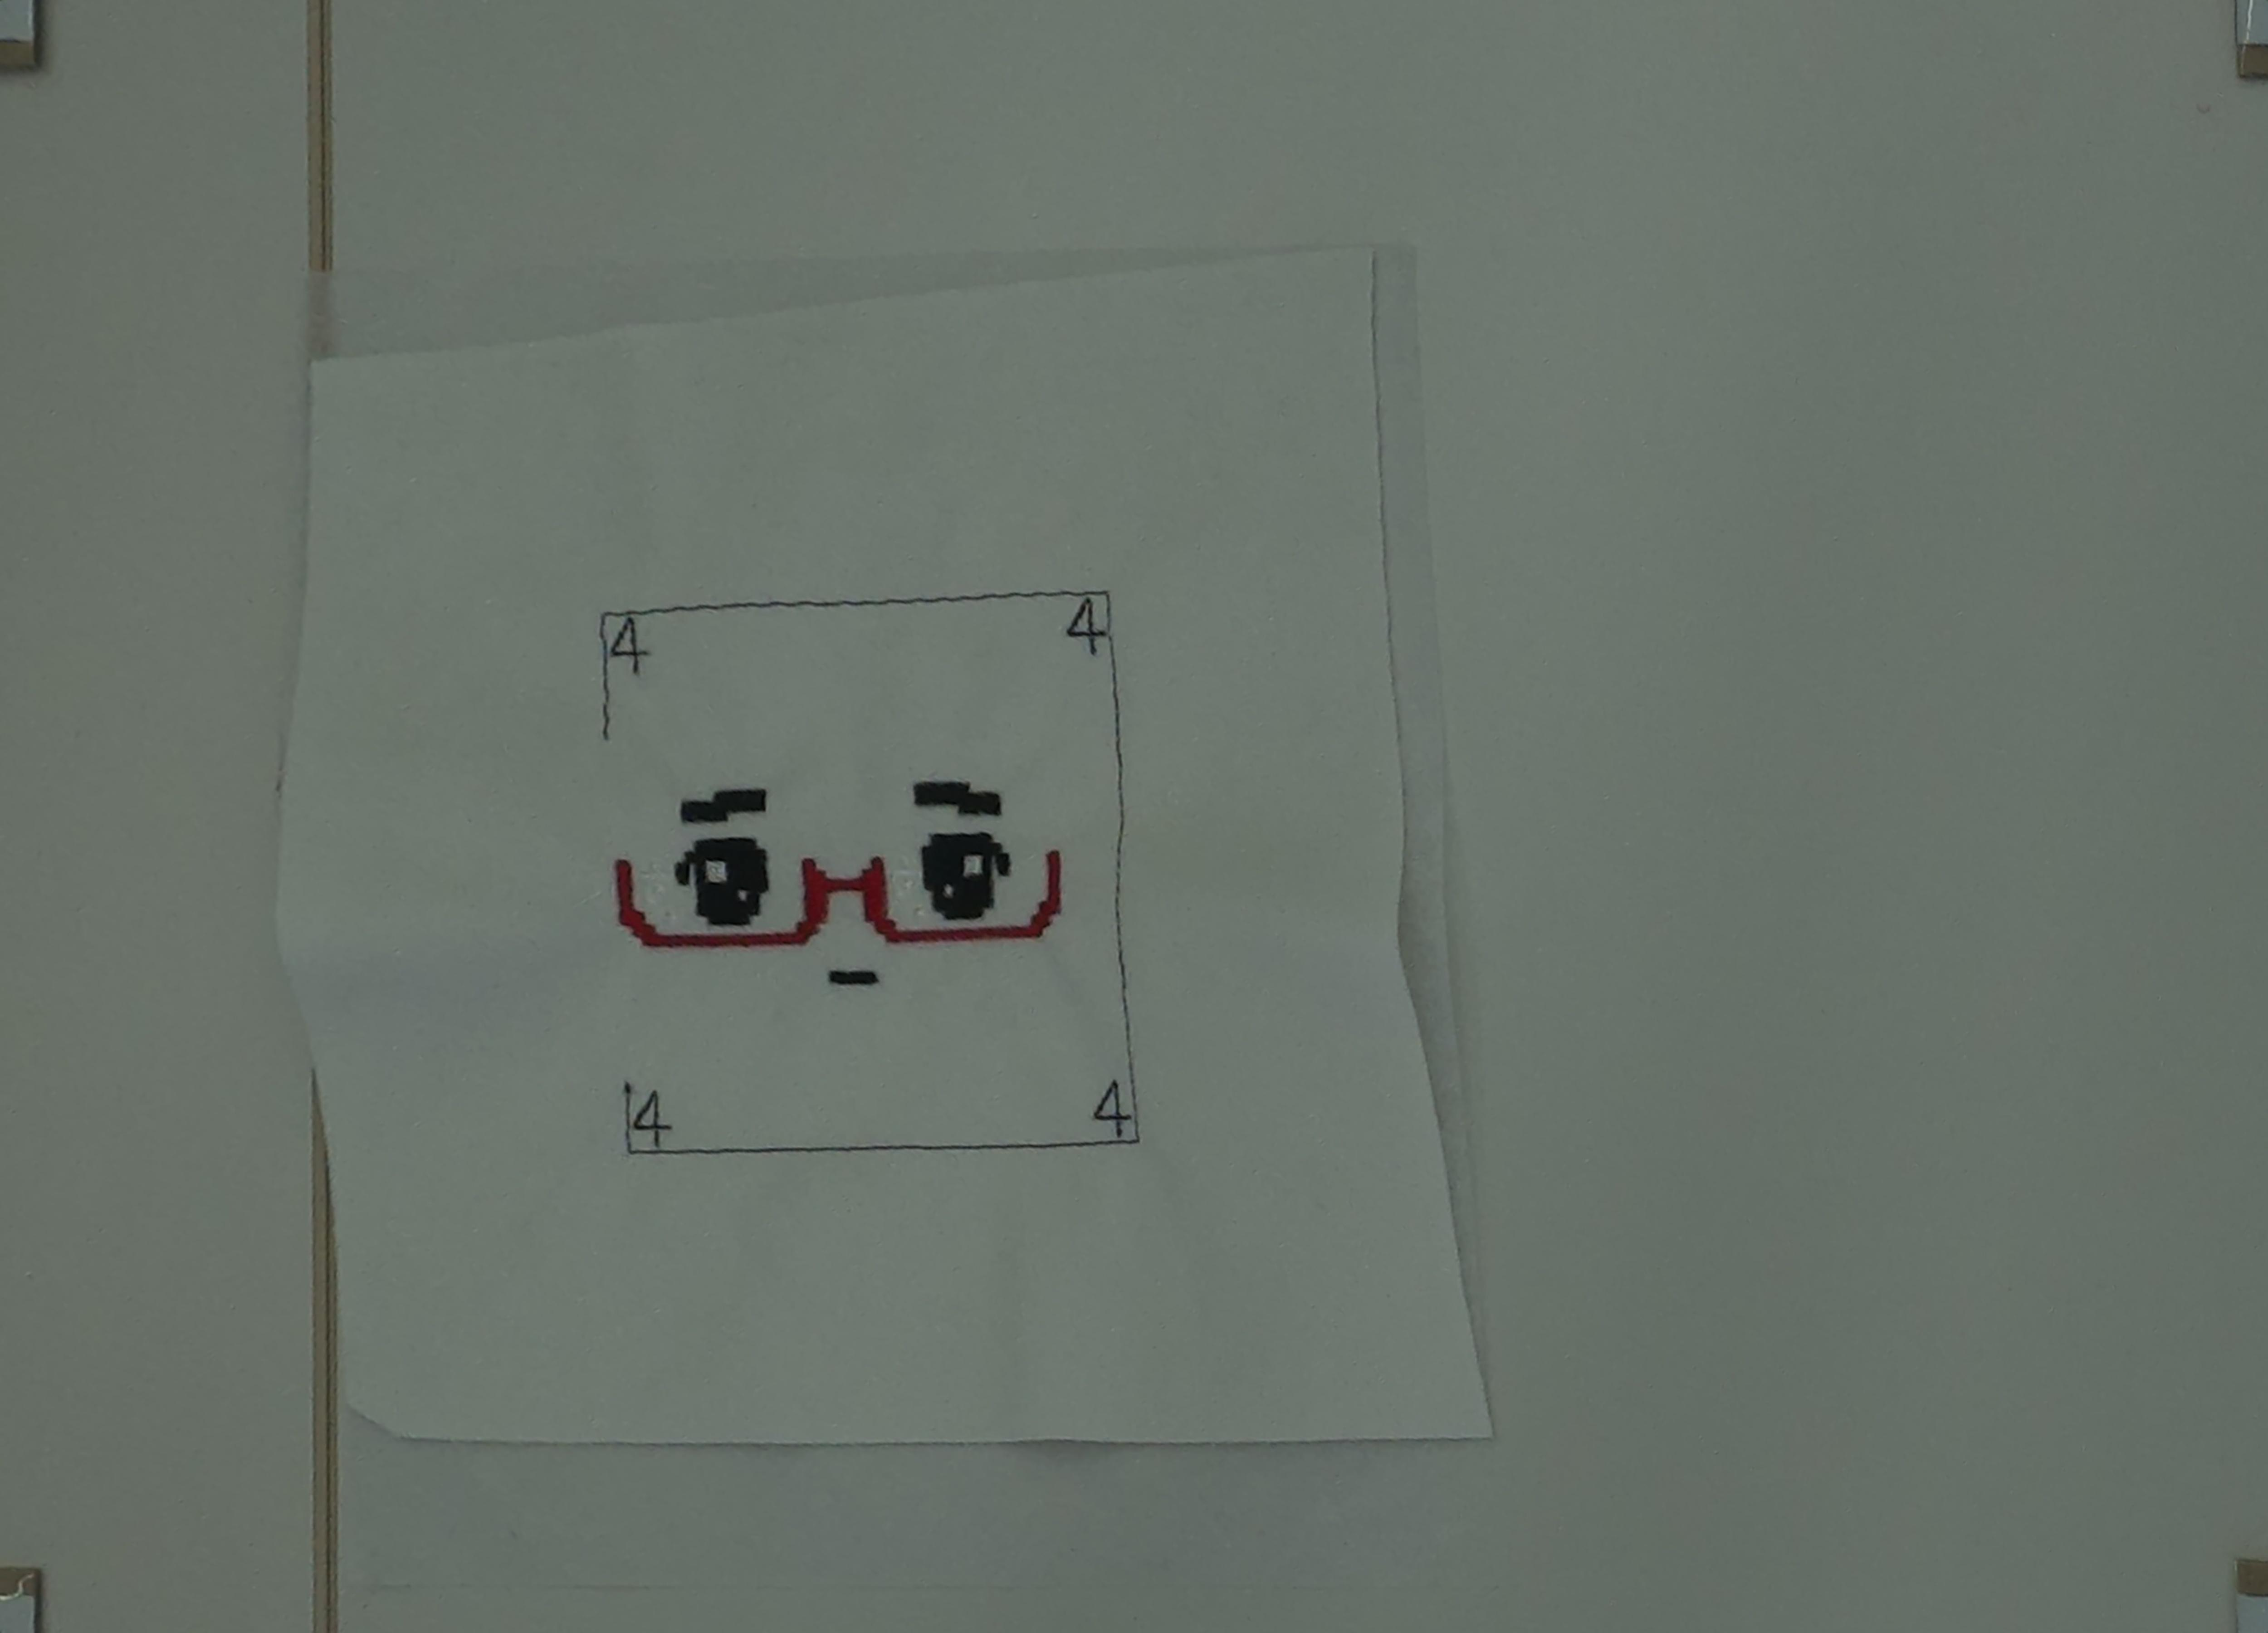4 -: (630, 1083, 687, 1154), (1076, 1078, 1134, 1145), (606, 615, 662, 683), (1058, 594, 1109, 662)
